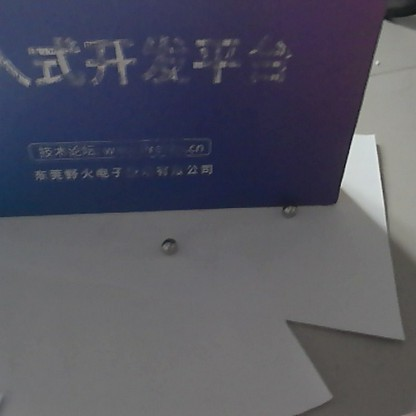ironball: (157, 234, 180, 256), (279, 201, 297, 220)
